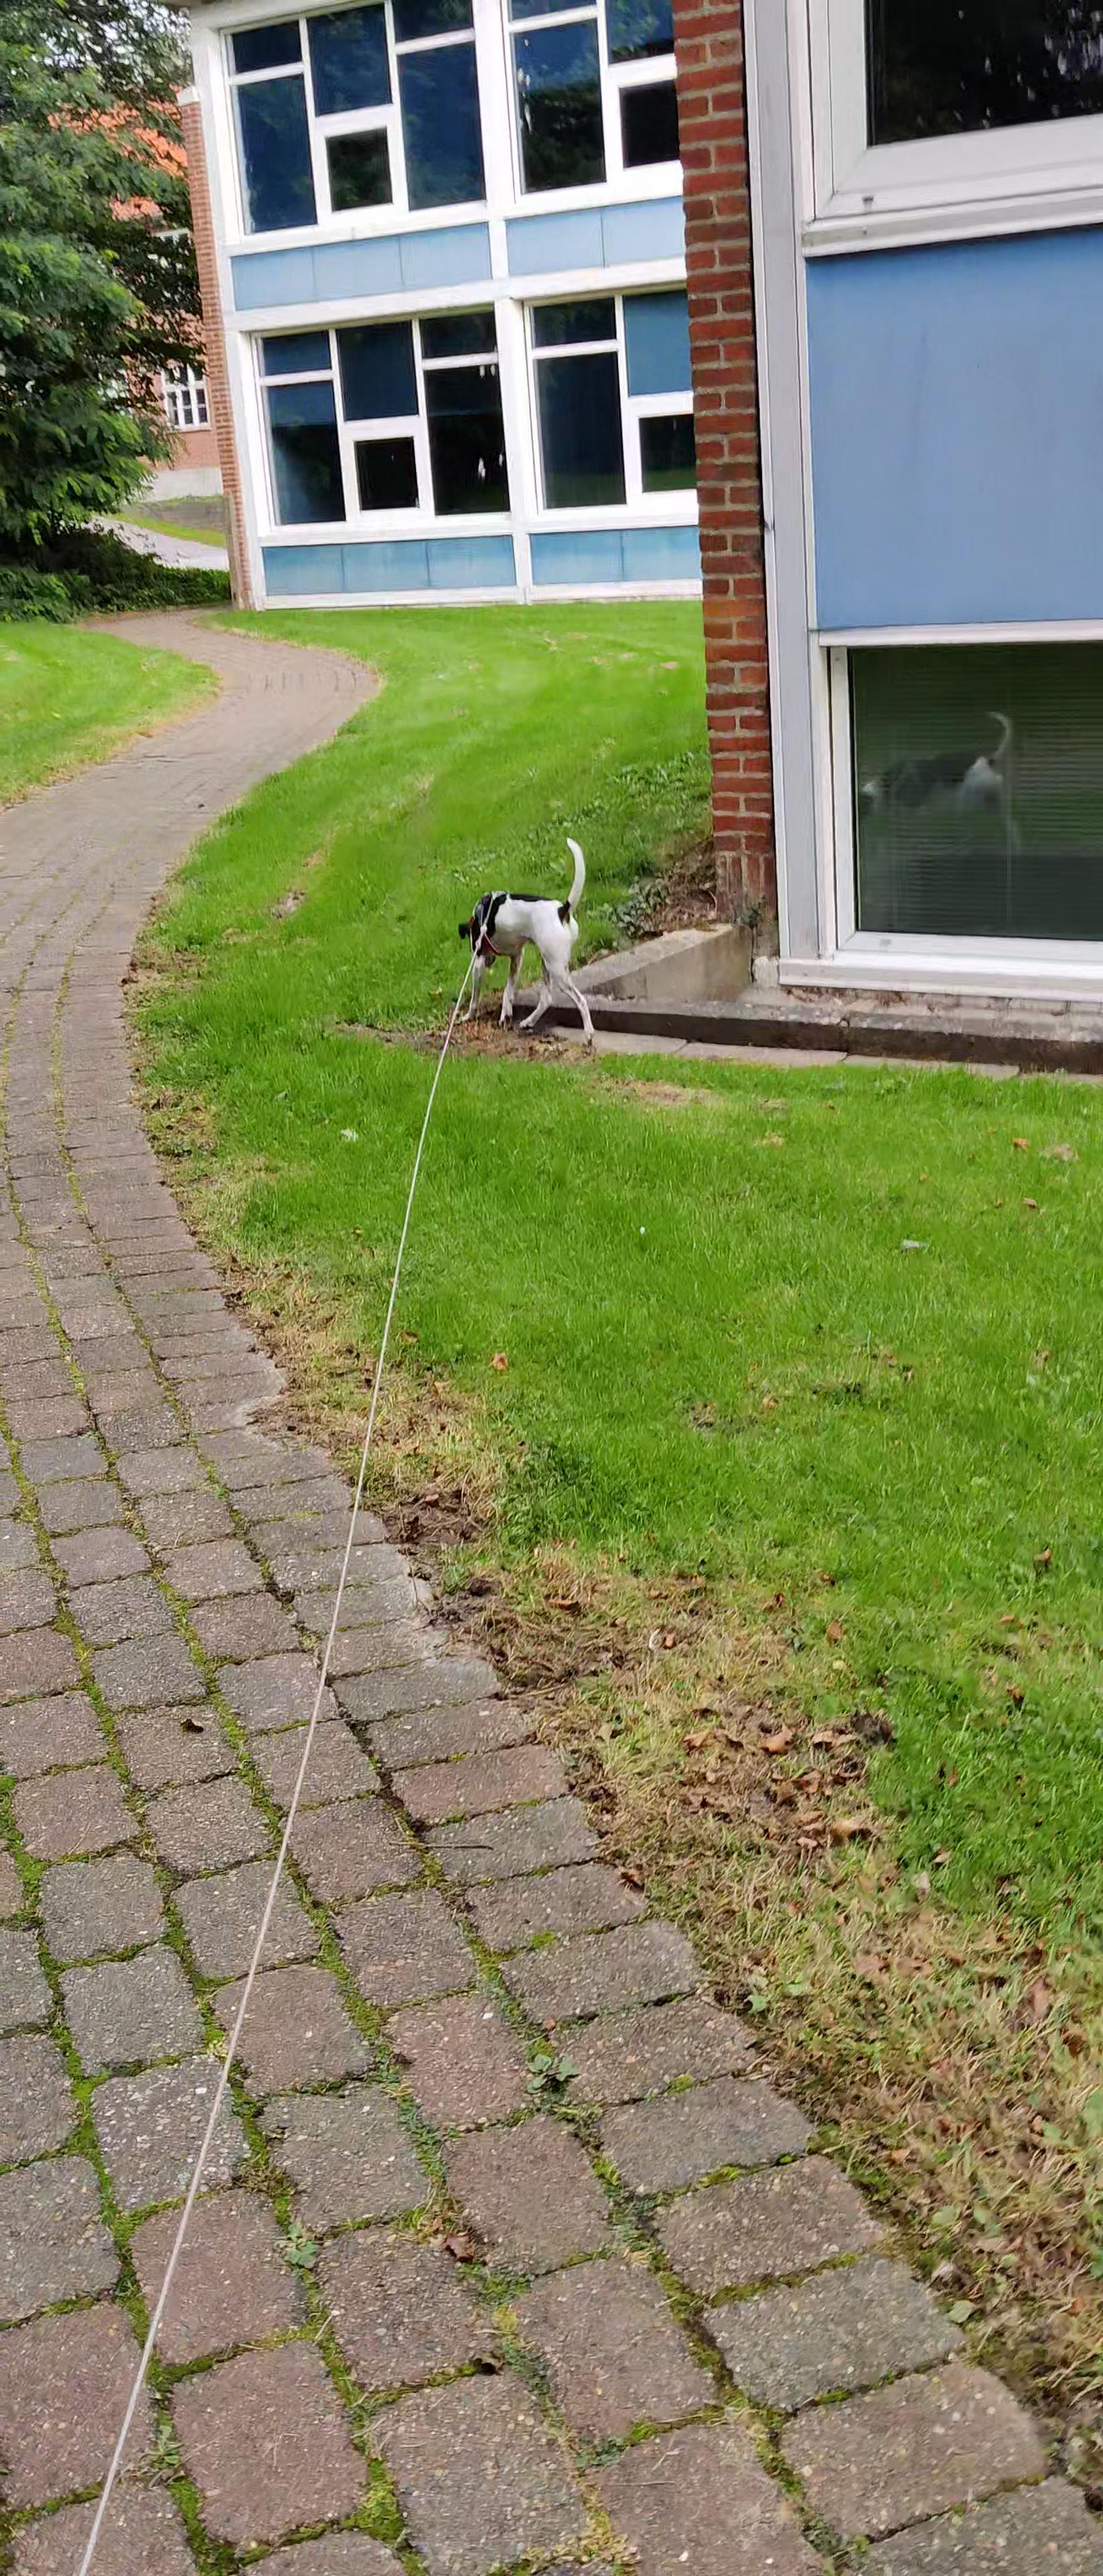Dog: (442, 828, 608, 1050)
